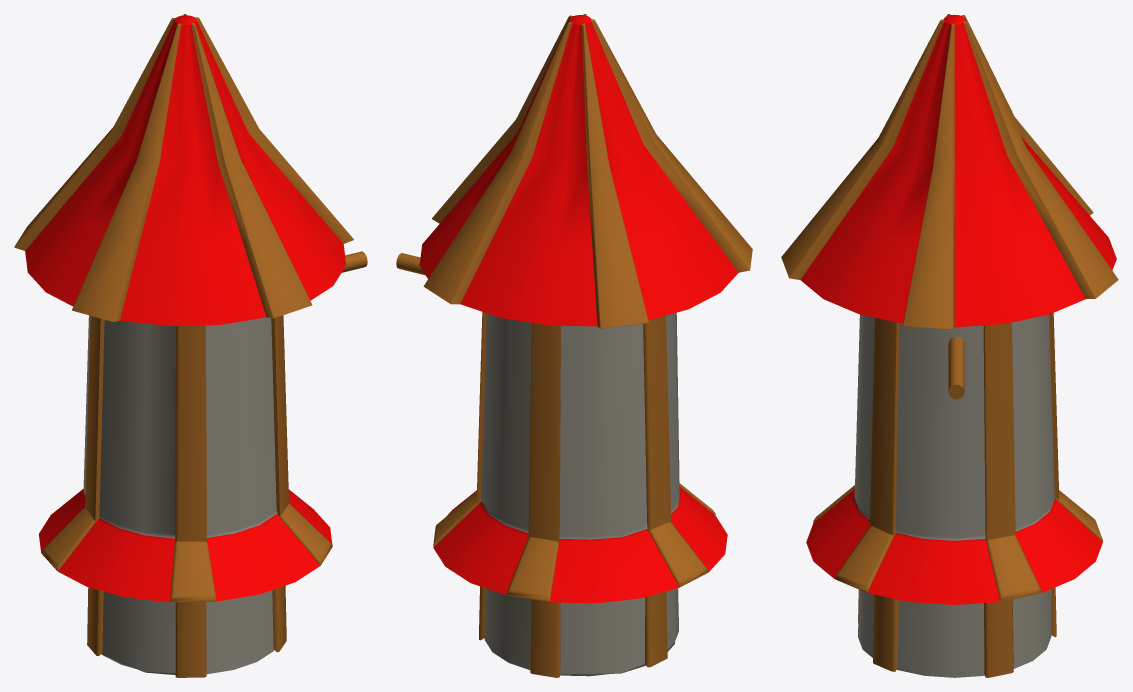
The model's file is Wildmill.glb.
3 renders of one model, left to right at view 1: azimuth 30°, elevation 25°; view 2: azimuth 150°, elevation 25°; view 3: azimuth 270°, elevation 25°, orthographic.
Visible parts, largest first — view 1: Wildmill_RedTeam; view 2: Wildmill_RedTeam; view 3: Wildmill_RedTeam.
Boxes of the visible parts, left/top/right/bottom form: Wildmill_RedTeam: left=14, top=14, right=367, bottom=677; Wildmill_RedTeam: left=396, top=14, right=752, bottom=677; Wildmill_RedTeam: left=781, top=14, right=1118, bottom=677.
Size of the model in its own units: 20.98 by 38.5 by 19.06.
